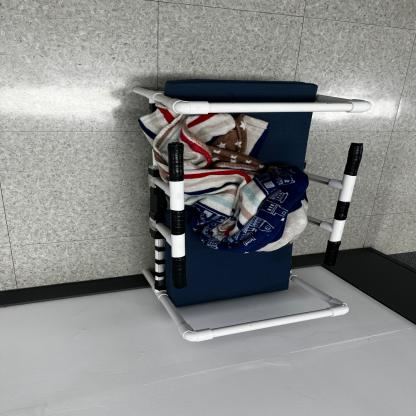np: (95, 60, 402, 380)
